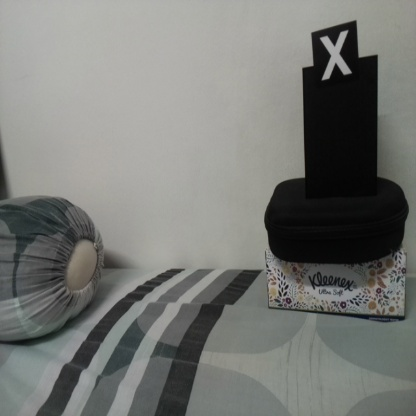id_13: (311, 29, 360, 86)
